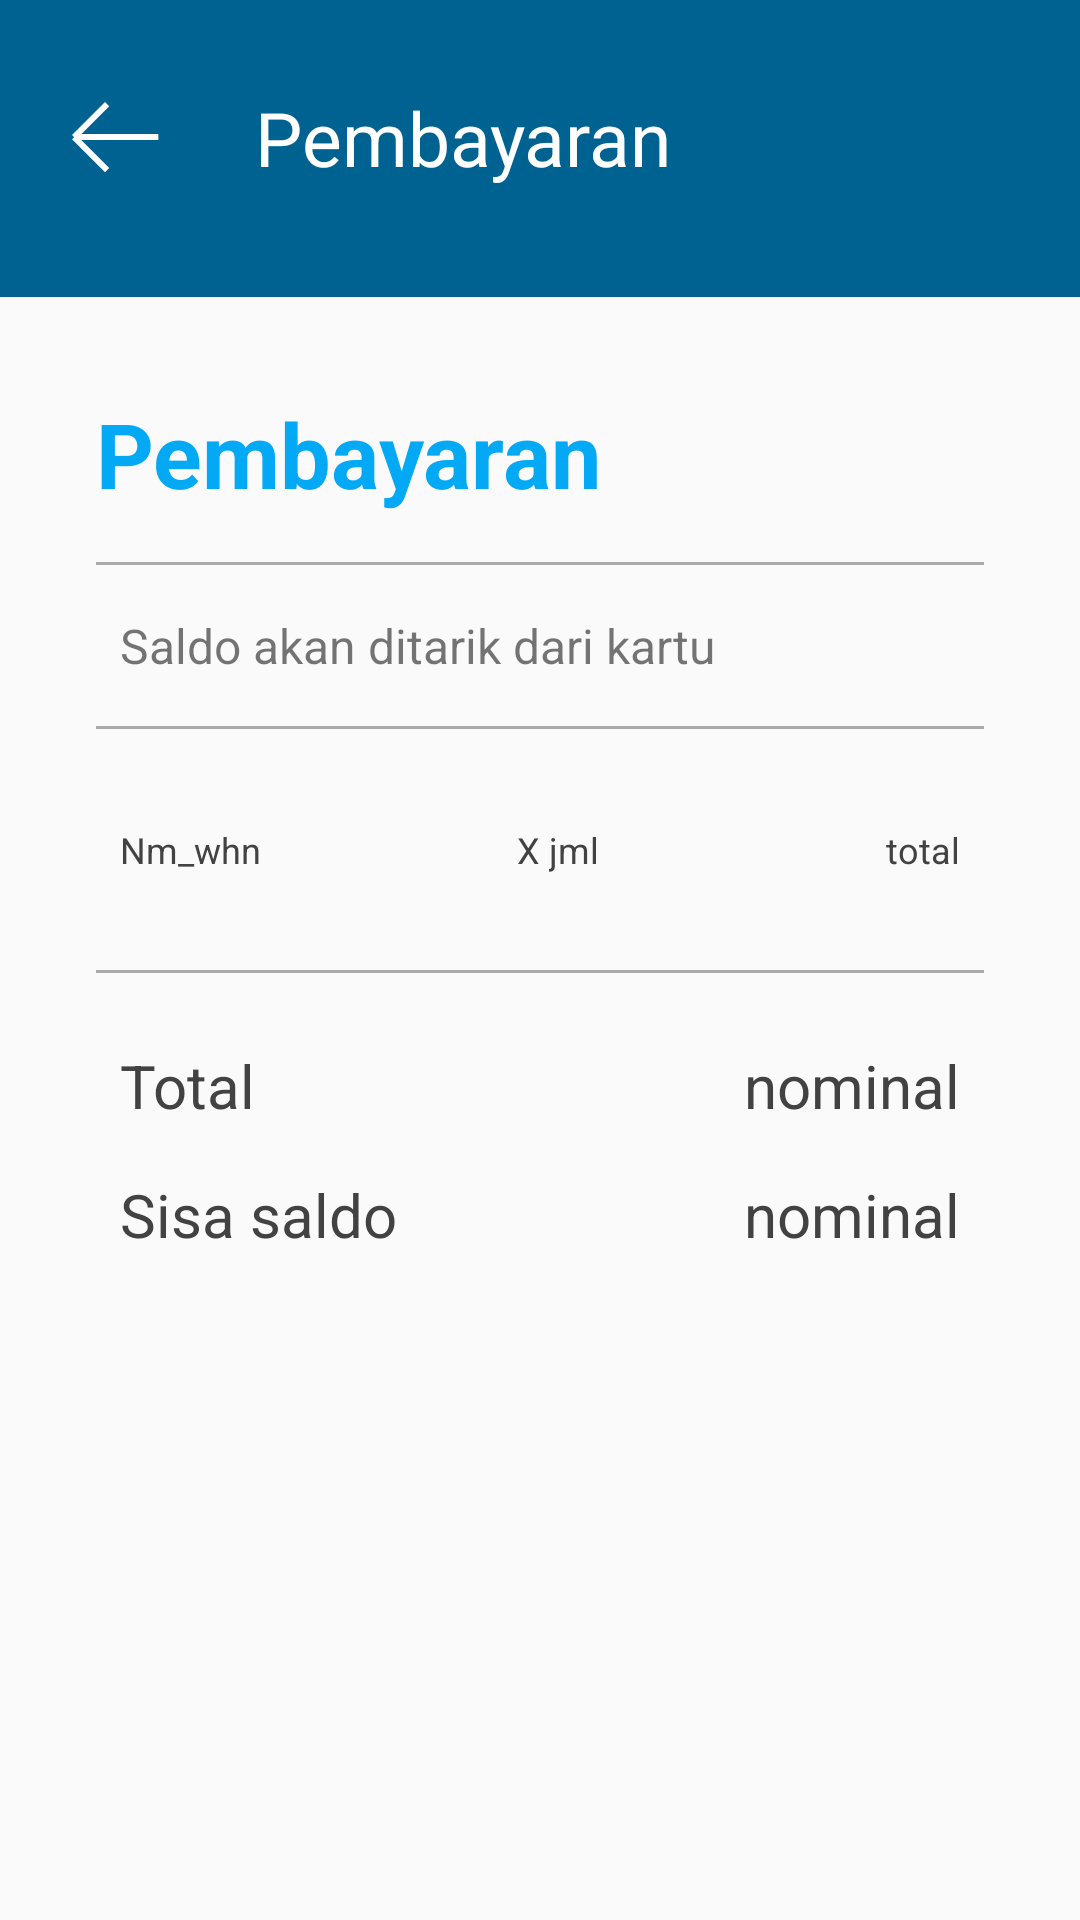

Point at icon controls on the screen. Image size 1080px×1920px, points as (x=x, y=y).
back: (x=115, y=137)
